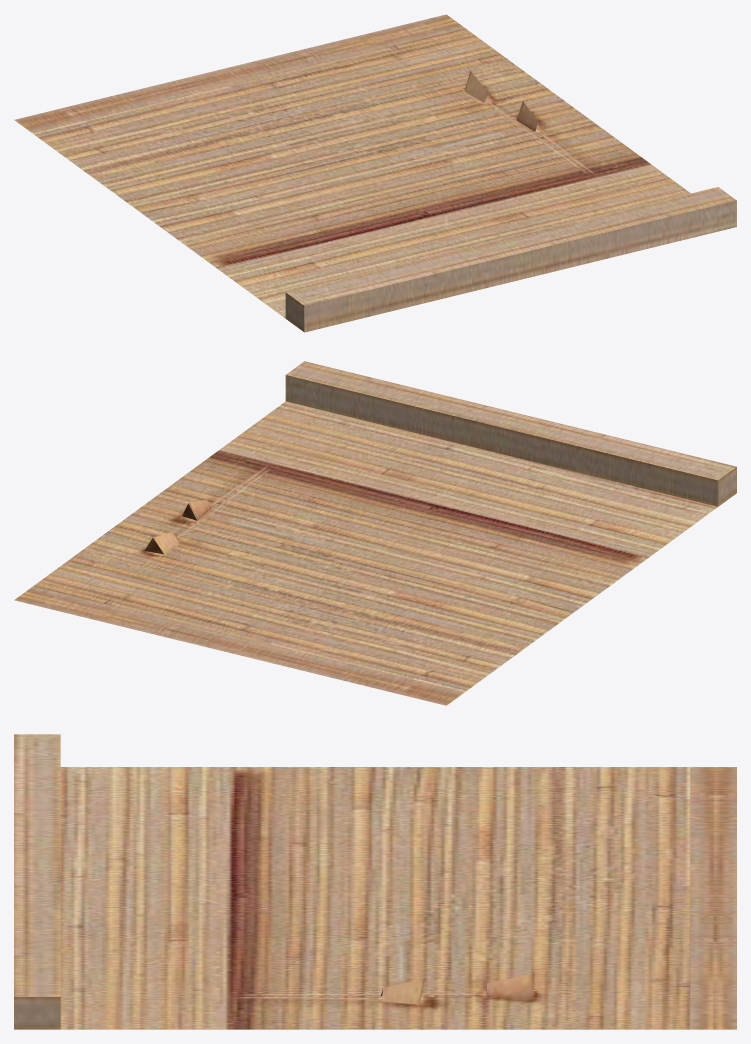
The model's file is it_blinds_bambo01.fbx.
3 views of the same model, one above another, from view 1: azimuth 30°, elevation 25°; view 2: azimuth 150°, elevation 25°; view 3: azimuth 270°, elevation 25° (orthographic). The views are drawn at different scales.
Parts seen in each view (by area): view 1: mesh_0; view 2: mesh_0; view 3: mesh_0.
Part boxes in pixels (x1=…): mesh_0: x1=14, y1=14, x2=736, y2=332; mesh_0: x1=14, y1=361, x2=736, y2=705; mesh_0: x1=14, y1=734, x2=736, y2=1029.
Bounding box in the file's own units: 103 × 6 × 119.
1 material, 1 textured.
